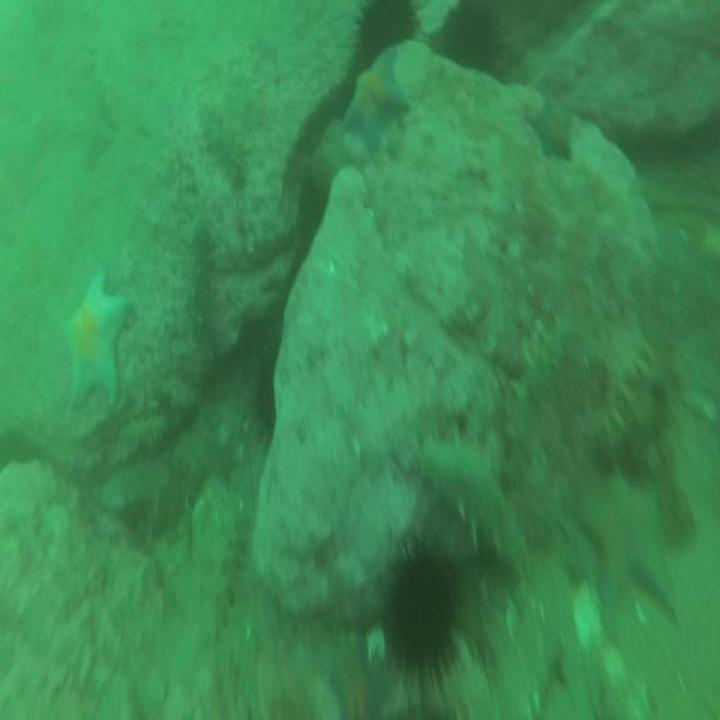echinus: (381, 532, 458, 688), (352, 2, 421, 66)
holothurian: (411, 436, 530, 574), (586, 311, 655, 455), (512, 297, 583, 405), (220, 501, 260, 688), (196, 100, 249, 188)
starfish: (574, 459, 685, 640), (58, 268, 132, 409), (339, 52, 409, 164), (327, 640, 385, 720), (524, 82, 578, 167)
